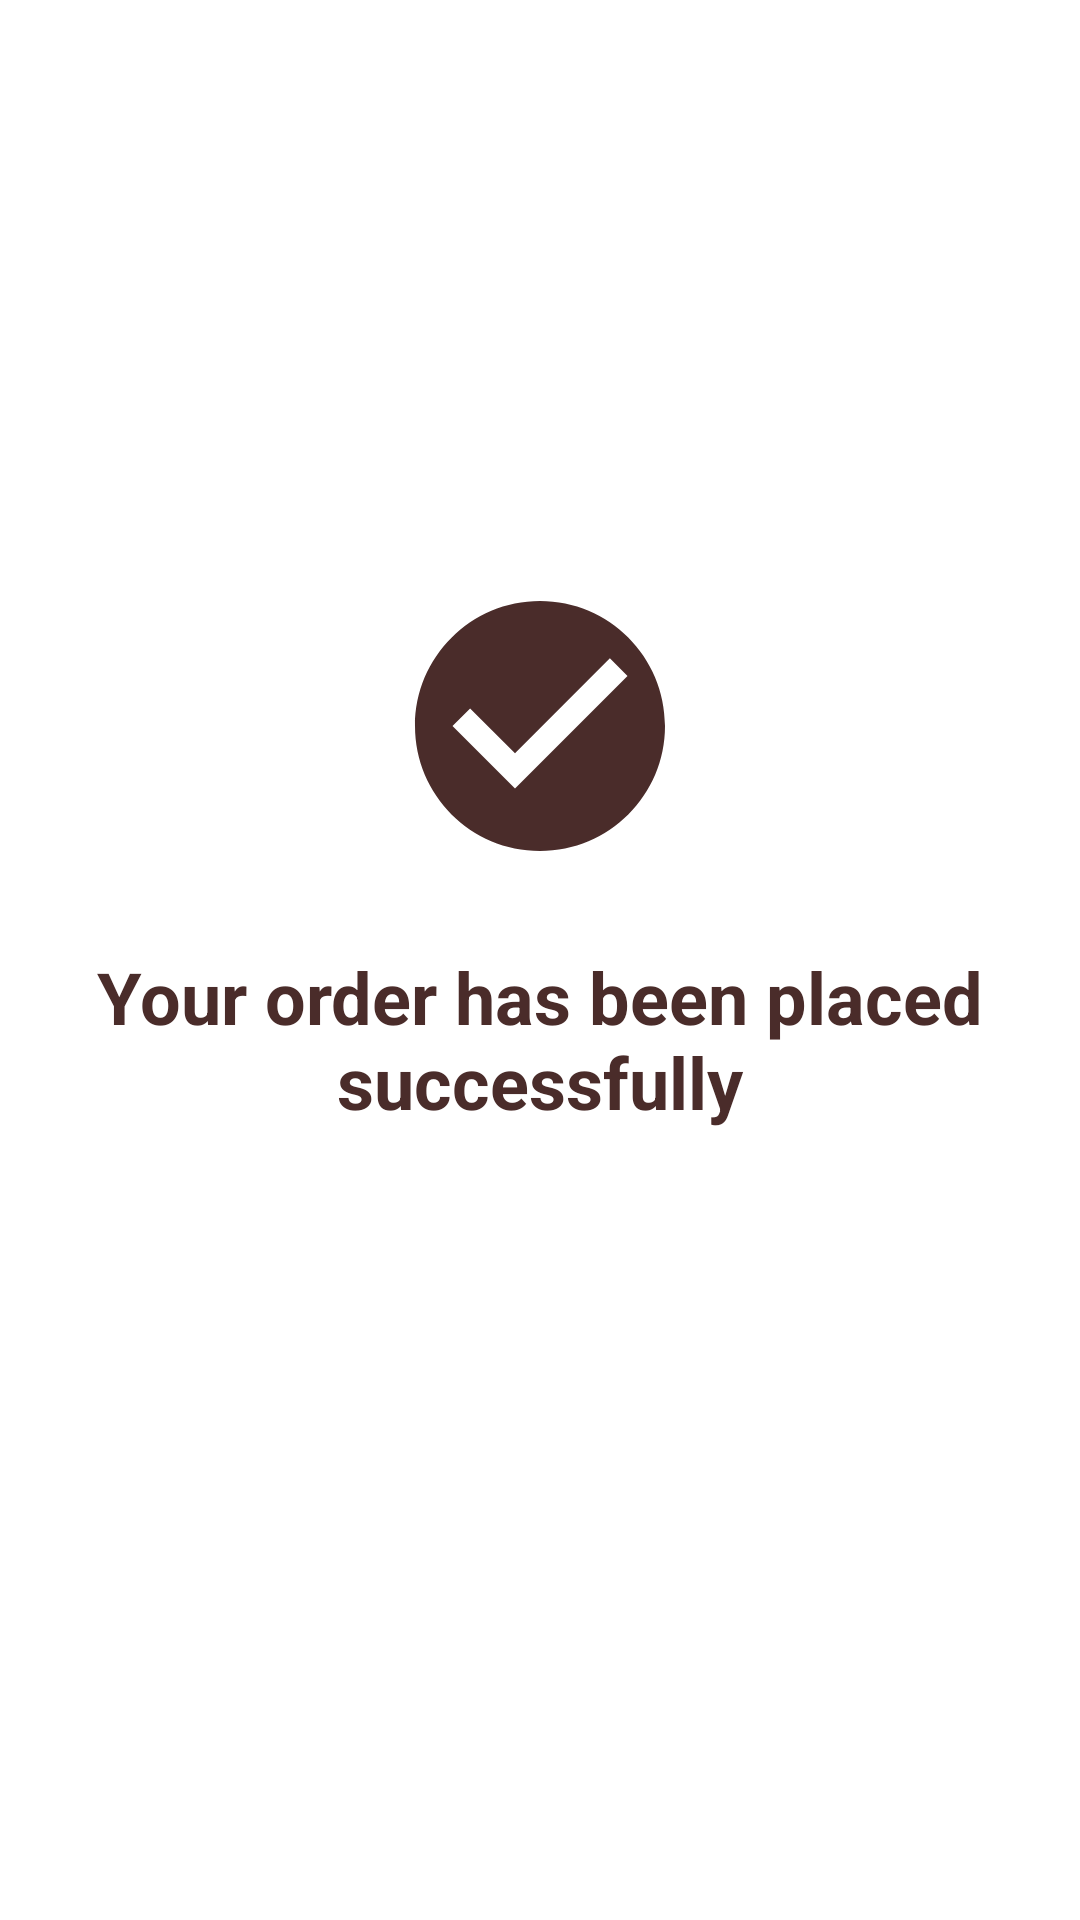

Icon click points for this 1080px×1920px phone screenshot, format (x,y):
check circle: (540,726)
